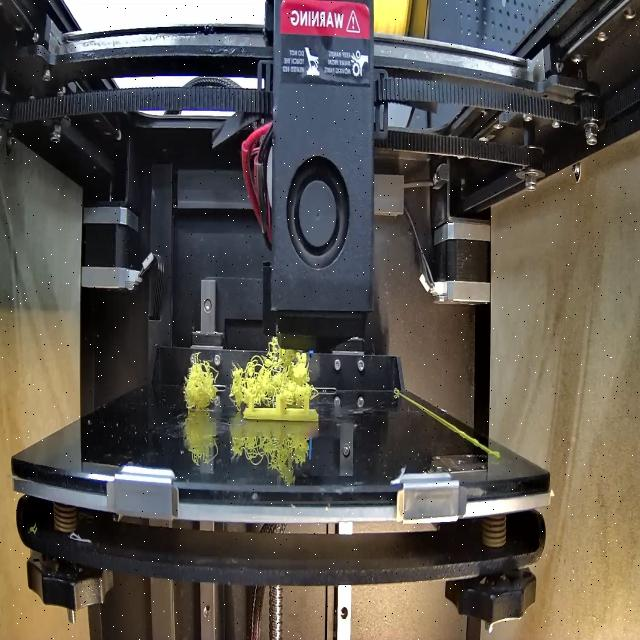spaghetti: (232, 339, 312, 414), (179, 354, 220, 409)
